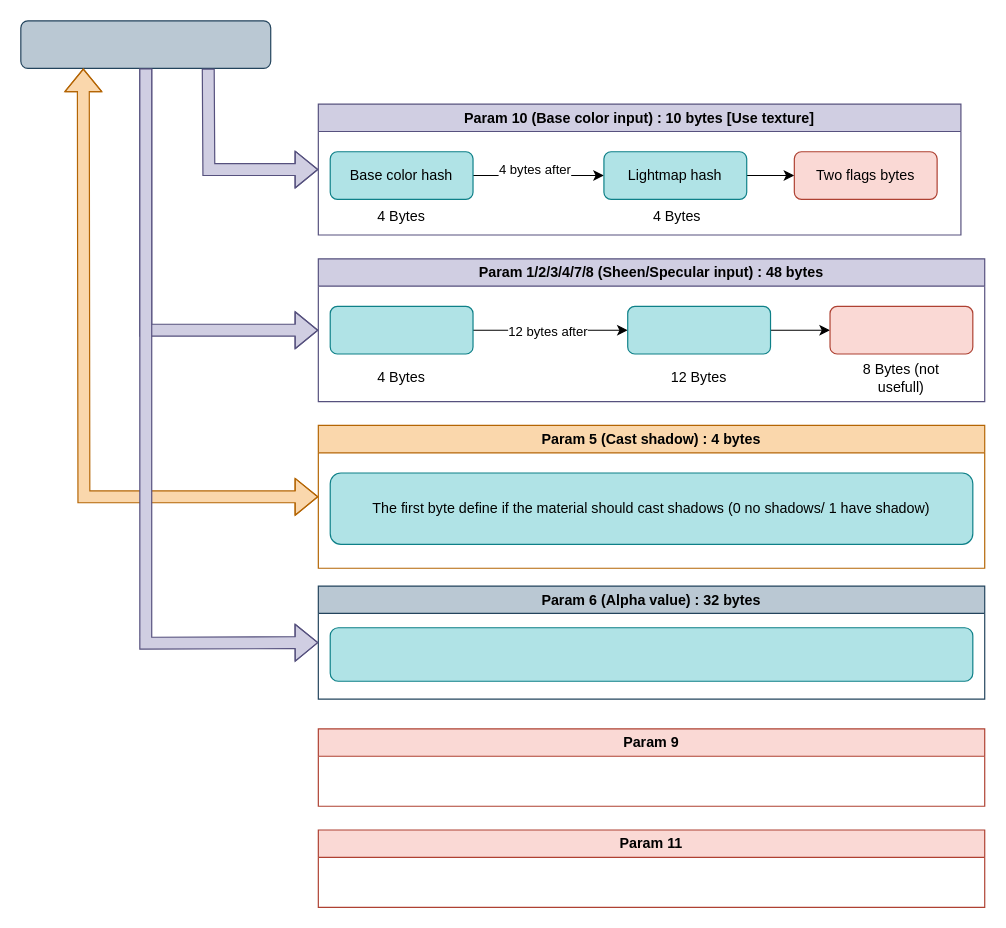
Image size: 1006x928. Some labels were removed from this diagram. The shapes that lost their labels are listed below. From the top down, each one's centre as x and y in pixels, then its label:
At [145,44]: "EnvironmentSpecularMaterial".
At [401,329]: "Intensity".
At [699,329]: "Color (RGB intensity)".
At [901,329]: "Two other values".
At [651,654]: "A single float value from 0 to 1 is at offset 0x12 and it's 4 bytes".
